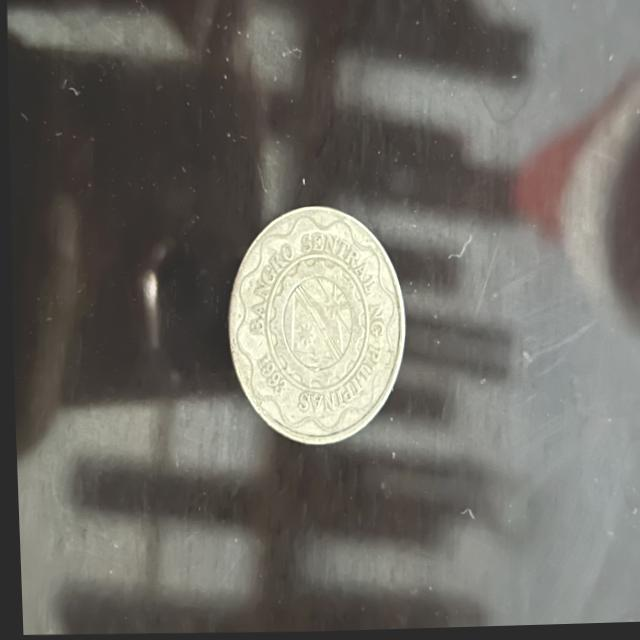5_Old_Back: (233, 233, 395, 428)
